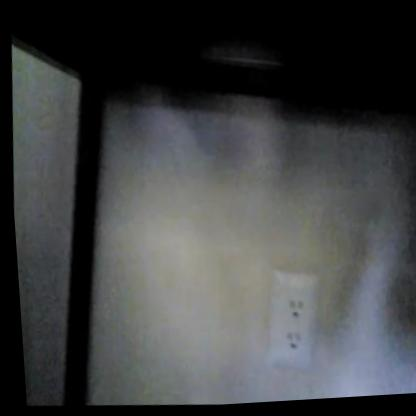OUTLET: (263, 269, 326, 376)
